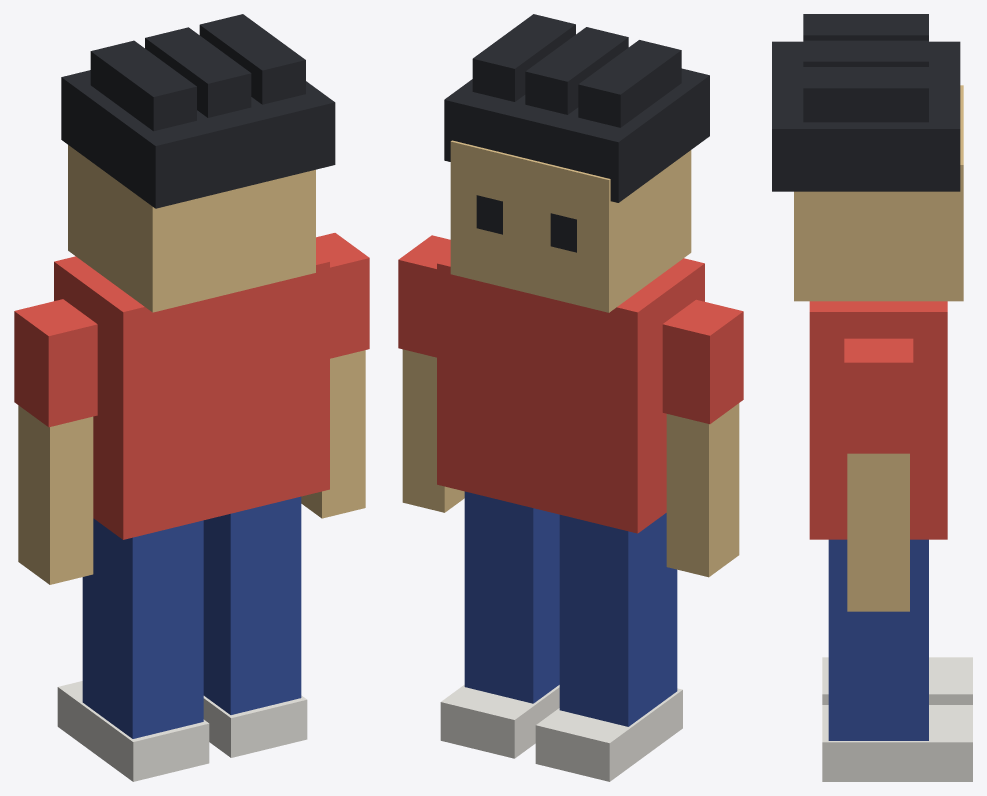
Rendered from H_ManCasual.fbx.
The picture shows the model from 3 angles, left to right: view 1: azimuth 30°, elevation 25°; view 2: azimuth 150°, elevation 25°; view 3: azimuth 270°, elevation 25°; orthographic projection. The views are drawn at different scales.
Parts seen in each view (by area): view 1: H_ManCasual; view 2: H_ManCasual; view 3: H_ManCasual.
Part boxes in pixels (x1,y1,x2,y2): H_ManCasual: [14, 14, 369, 781]; H_ManCasual: [398, 14, 743, 781]; H_ManCasual: [772, 14, 972, 781].
Bounding box in the file's own units: 0.59 × 1.21 × 0.32.
